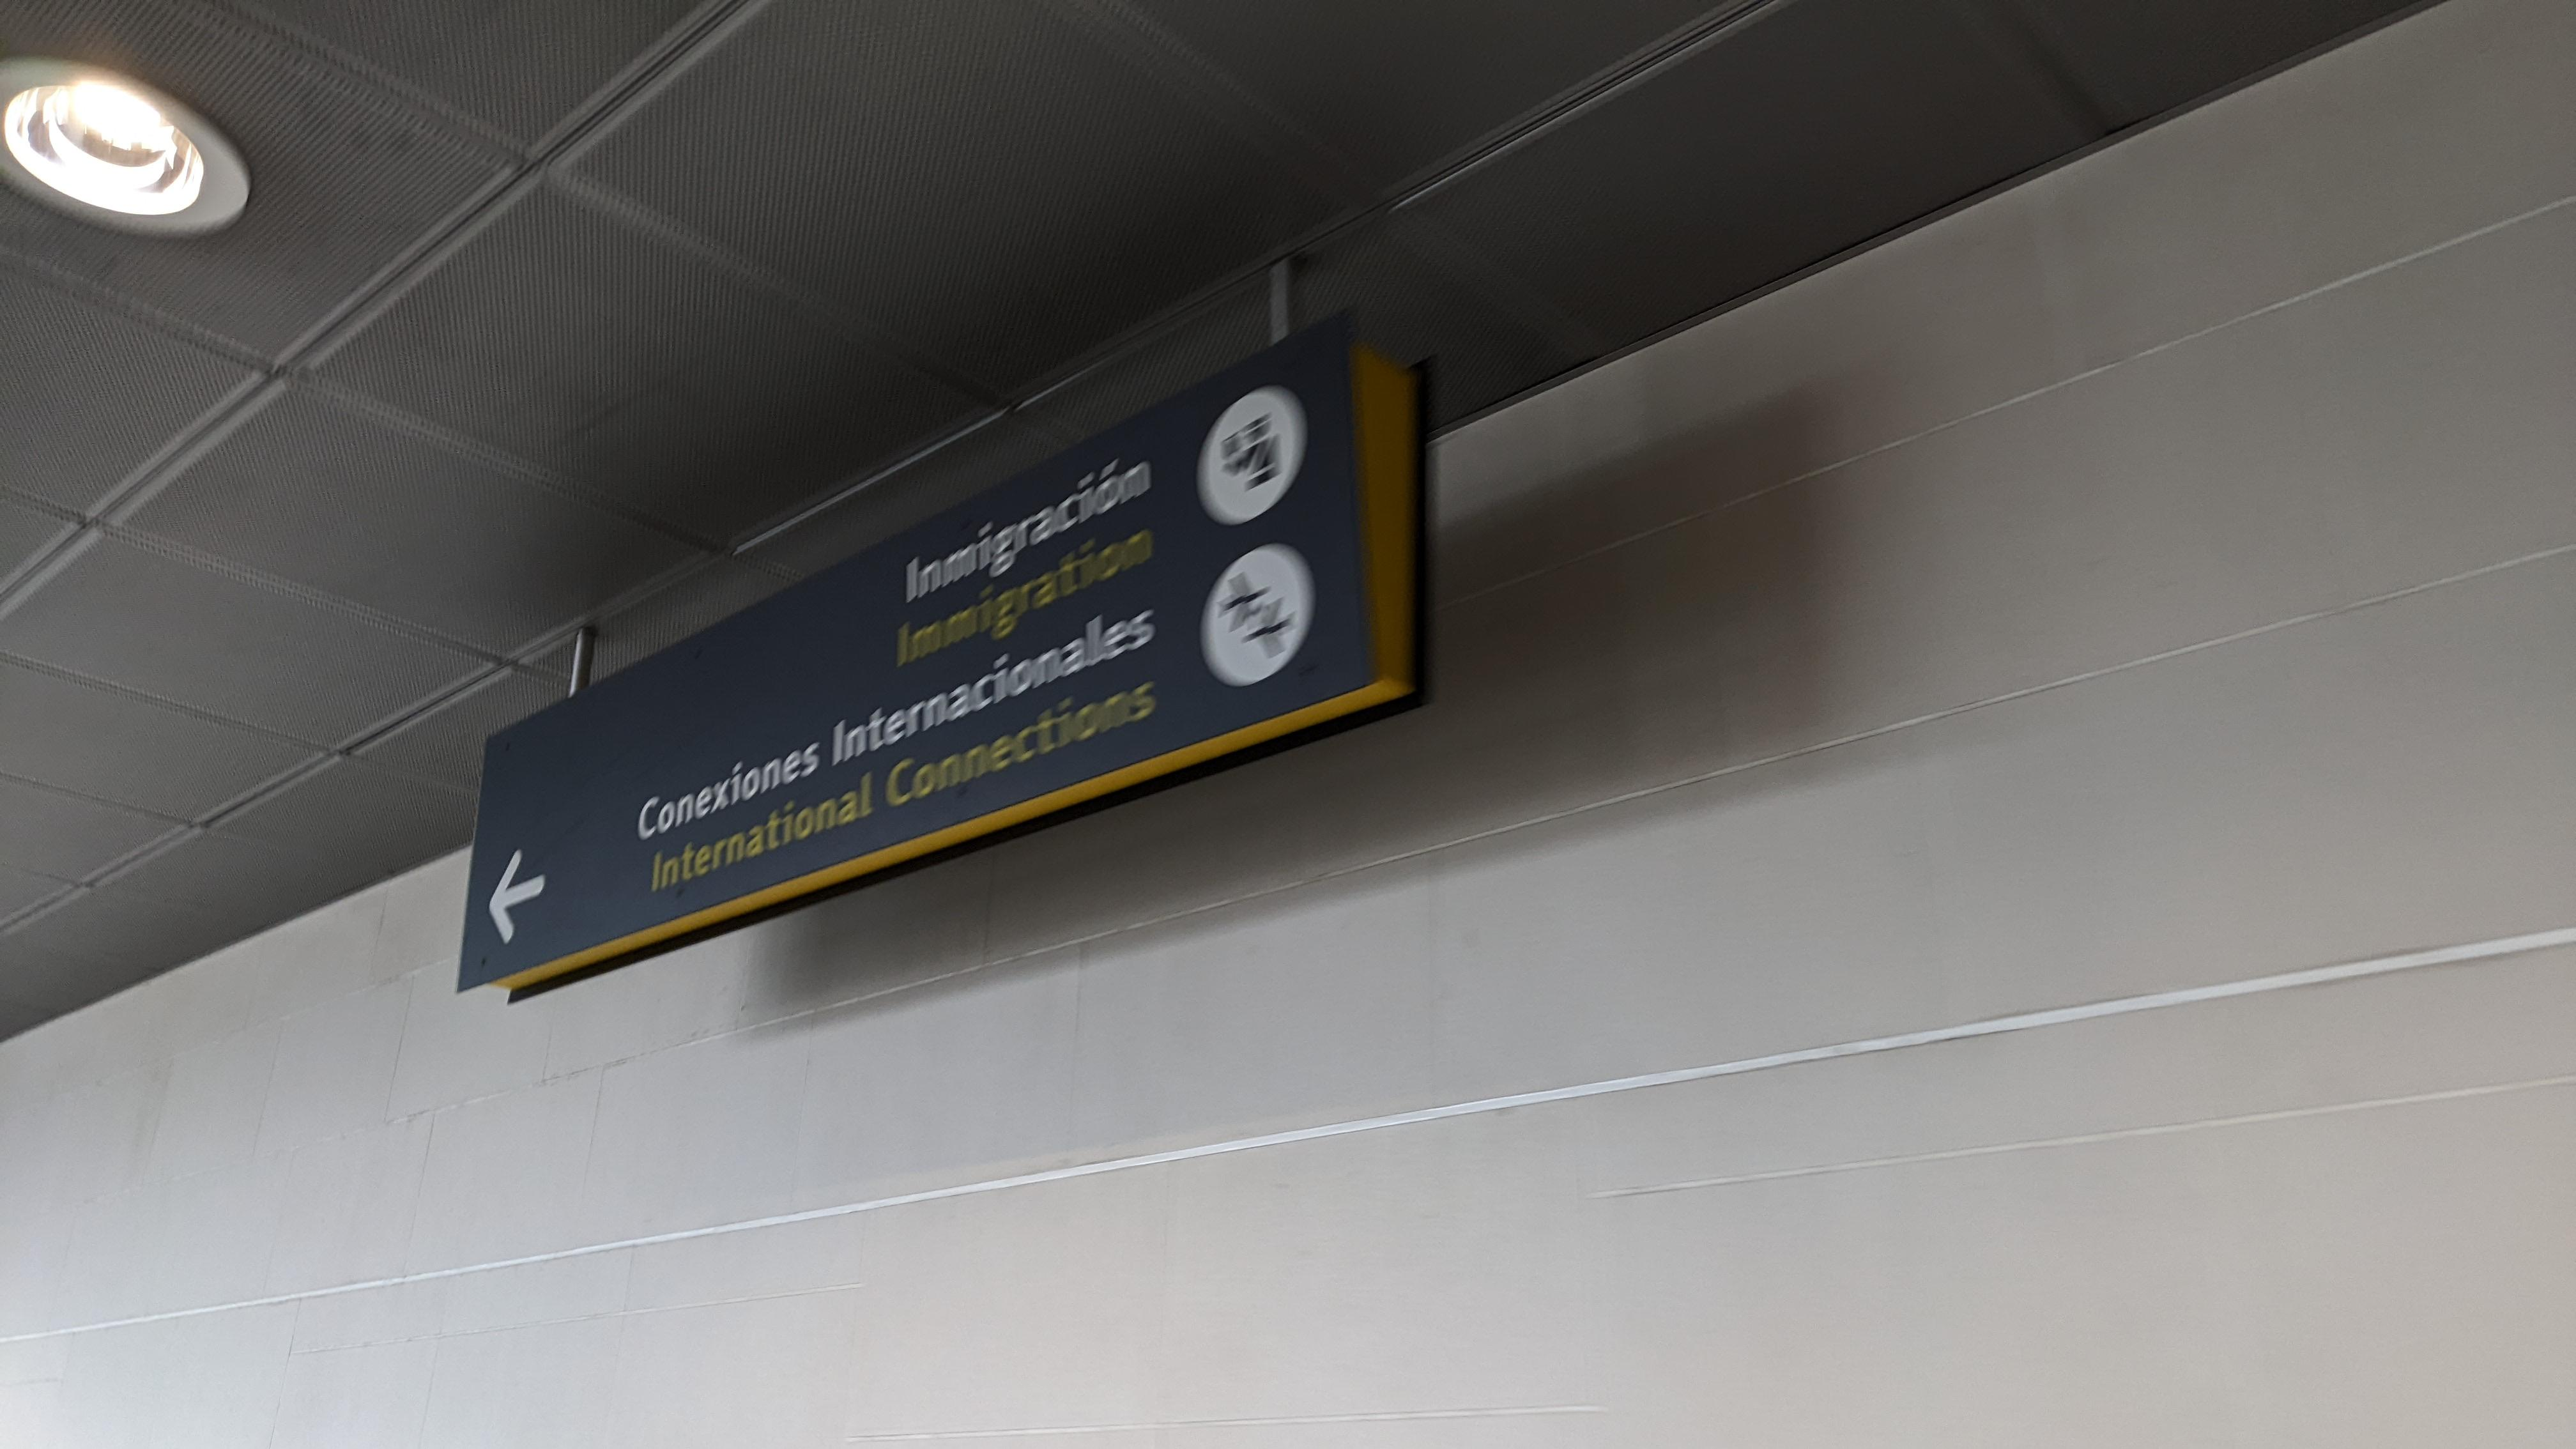left arrow: (485, 849, 550, 945)
